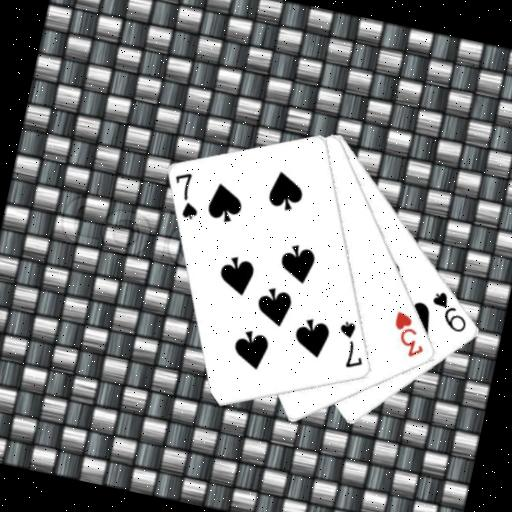3H: (384, 307, 432, 361)
7S: (329, 317, 373, 373), (164, 166, 208, 222)
9S: (424, 286, 474, 335)
